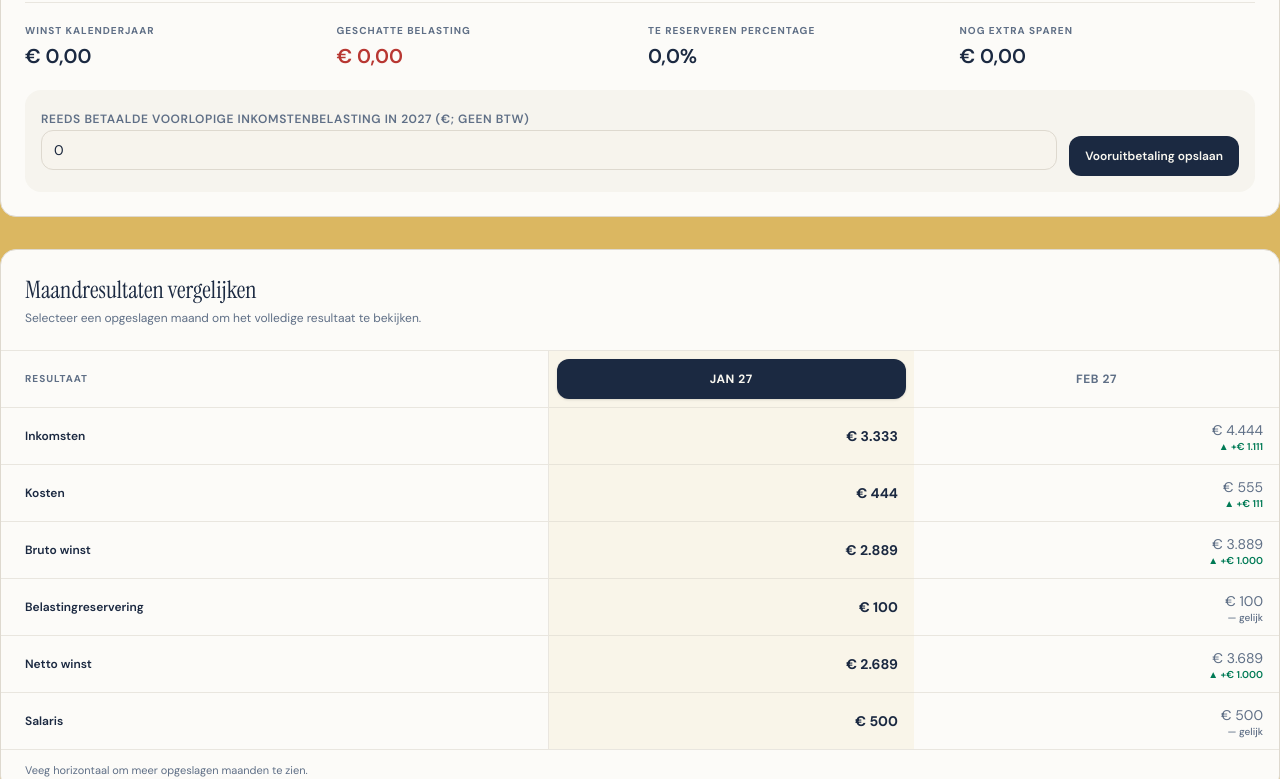
Test: maandkeuze in het financiële beheerscherm › wist de oude maand na een wissel naar een seizoen zonder opgeslagen maanden
This screenshot has width=1280, height=779.
(page scrolled)
Click the button with test id "button-compare-month-2027-02".
click(1096, 379)  # box left=922, top=359, right=1271, bottom=399
(page scrolled)
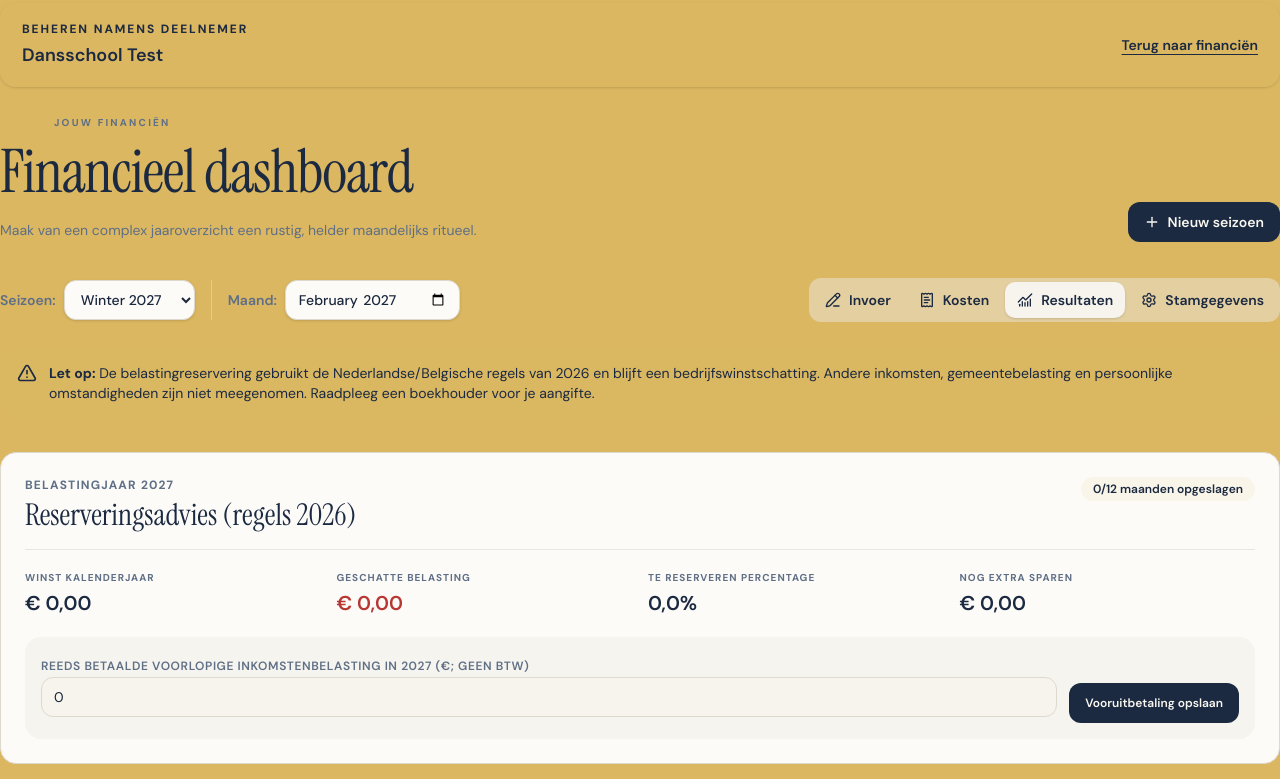
Select "Leeg seizoen" in the dropdown at (129, 300), box left=64, top=280, right=195, bottom=320
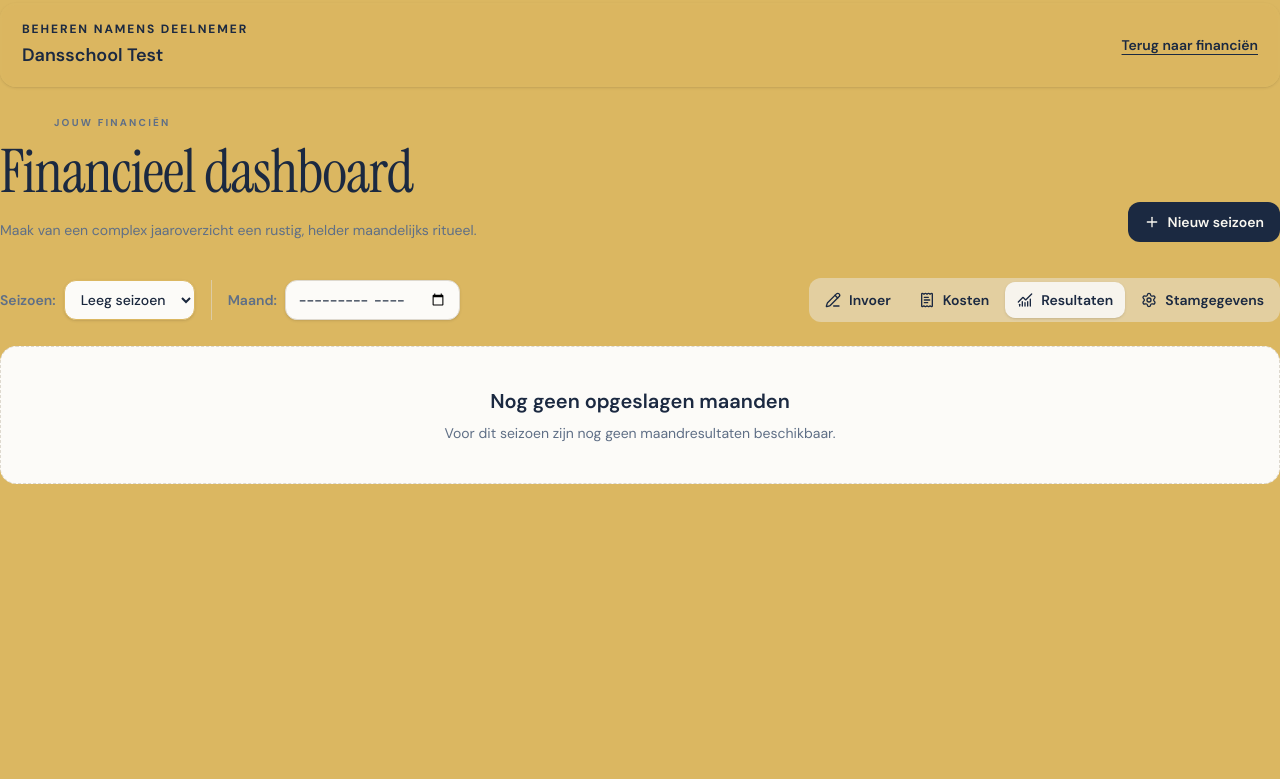
Expected: the element with test id "empty-financial-season" is shown, left=0, top=346, right=1279, bottom=484
Expected: the field with test id "input-month" is empty, left=285, top=280, right=460, bottom=320
